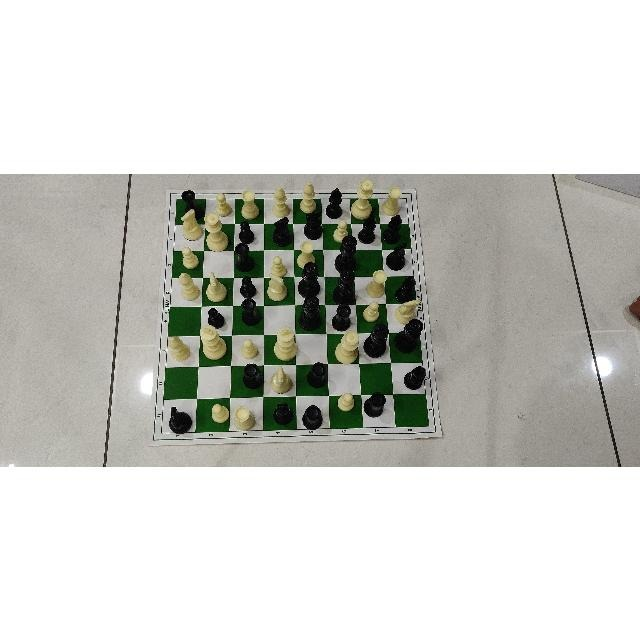black-bishop: (382, 213, 402, 243), (325, 186, 343, 217), (403, 365, 426, 389), (358, 214, 377, 243), (396, 276, 416, 302), (273, 401, 293, 424)
black-king: (365, 322, 393, 358), (332, 268, 356, 304), (335, 234, 357, 270)
black-knight: (167, 405, 194, 433), (385, 241, 408, 270), (272, 214, 293, 245), (303, 209, 322, 238)
black-pawn: (239, 219, 255, 242), (207, 306, 224, 325), (240, 276, 256, 296)
black-queen: (395, 317, 423, 352), (298, 294, 322, 330), (297, 261, 320, 295)
black-rook: (363, 390, 386, 417), (234, 241, 254, 270), (241, 297, 261, 325), (301, 403, 323, 428), (242, 362, 263, 388), (307, 361, 327, 388), (331, 304, 351, 330), (181, 188, 201, 207)
white-bishop: (179, 271, 201, 299), (167, 334, 190, 359), (272, 185, 290, 216), (299, 181, 316, 211)
white-king: (200, 324, 228, 360), (274, 325, 298, 361)
white-knight: (180, 208, 203, 240), (206, 271, 228, 301), (269, 365, 292, 393), (394, 298, 419, 322), (268, 273, 288, 301)
white-pawn: (214, 189, 236, 217), (207, 400, 230, 425), (179, 245, 202, 269), (239, 336, 259, 362), (361, 298, 382, 321), (333, 218, 350, 244), (337, 392, 355, 412), (269, 254, 289, 272)
white-queen: (203, 211, 228, 251), (351, 177, 375, 217), (334, 329, 359, 363)
white-rook: (232, 405, 260, 433), (366, 268, 388, 296), (382, 185, 402, 214), (241, 188, 259, 218), (297, 239, 315, 266)
